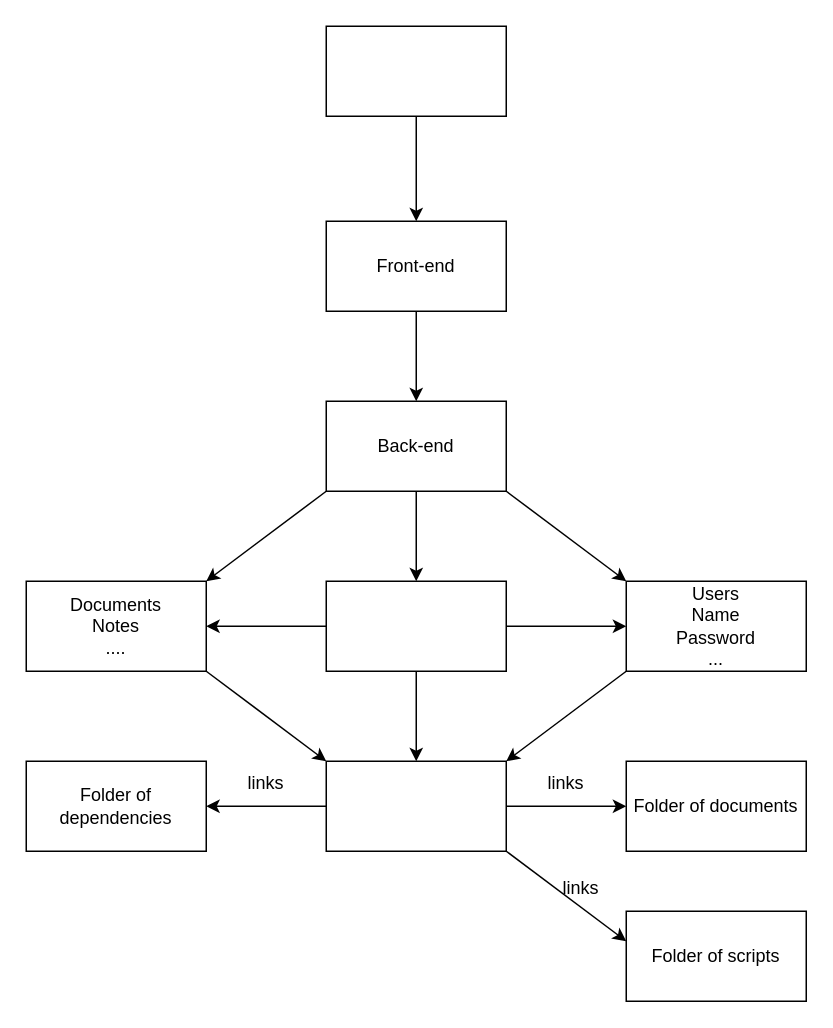
Image size: 833x1028. Some labels were removed from this diagram. The shapes that lost their labels are listed below. From the top down, each one's centre as x and y in pixels, then its label:
At (x=415, y=70): "User".
At (x=415, y=625): "Proj name Documents Scripts Md files".
At (x=415, y=805): "Srever Functions".
